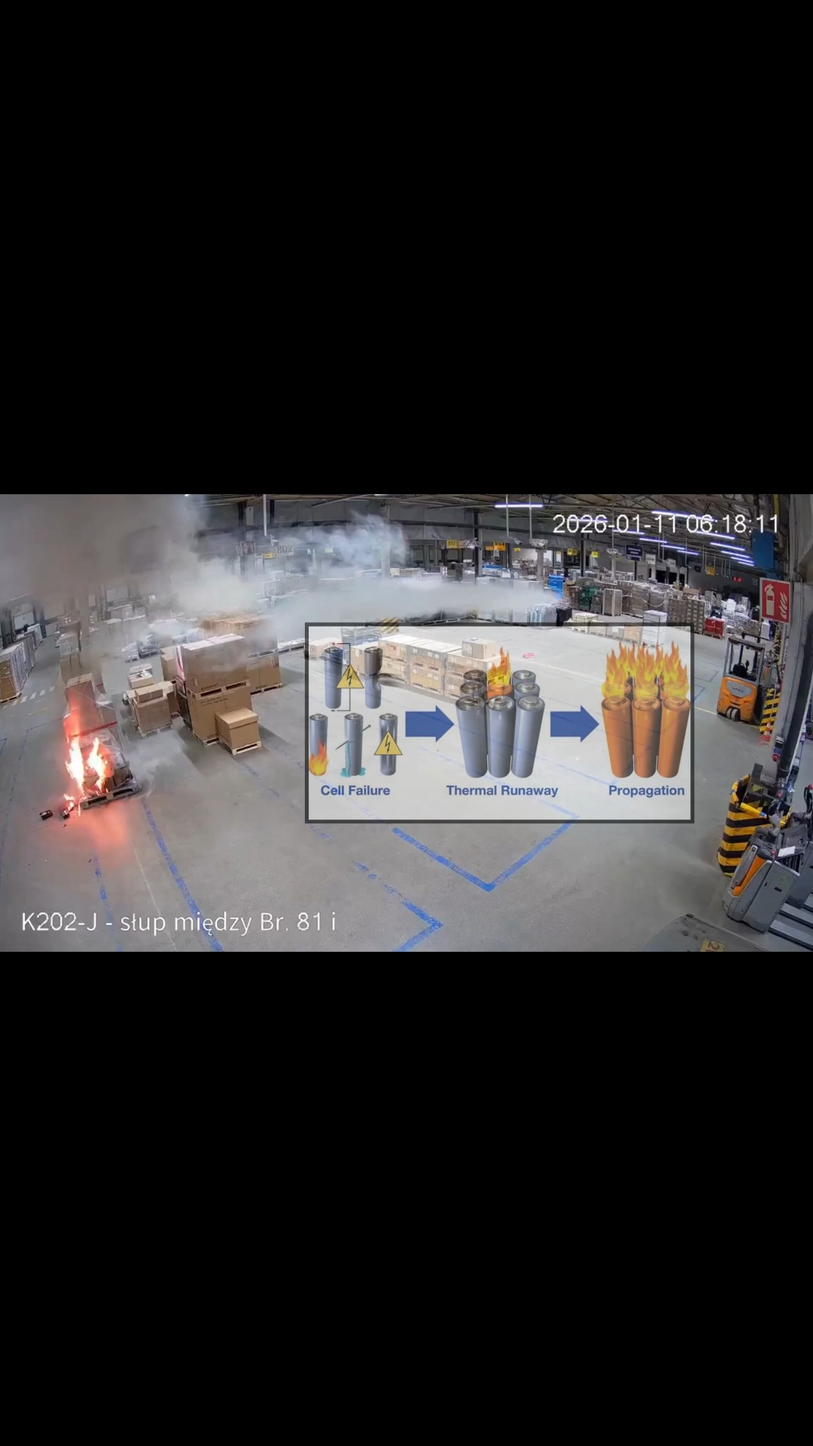fire: (62, 719, 117, 816)
smoke: (0, 496, 577, 730)
